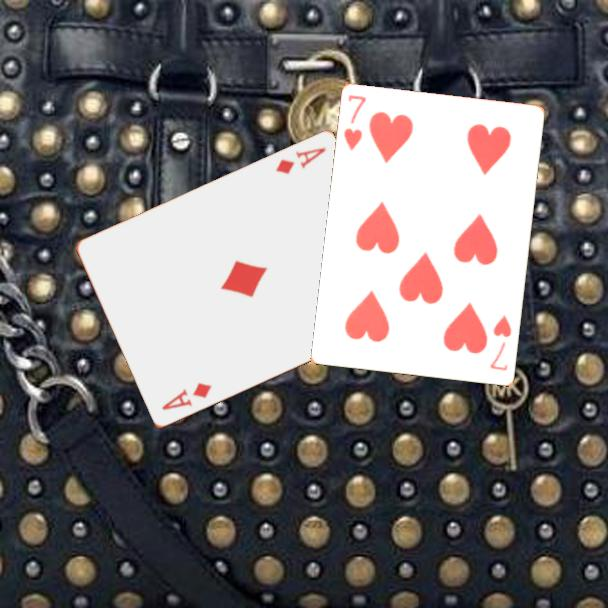d01: (158, 379, 215, 413), (272, 144, 329, 178)
h07: (340, 92, 369, 154), (486, 312, 514, 374)
